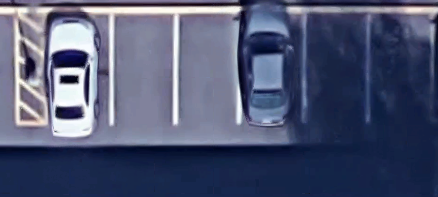Occupied: (45, 14, 112, 127), (238, 15, 304, 125)
Vacant: (368, 14, 433, 125), (112, 14, 176, 126), (305, 15, 369, 125), (175, 15, 238, 125)
